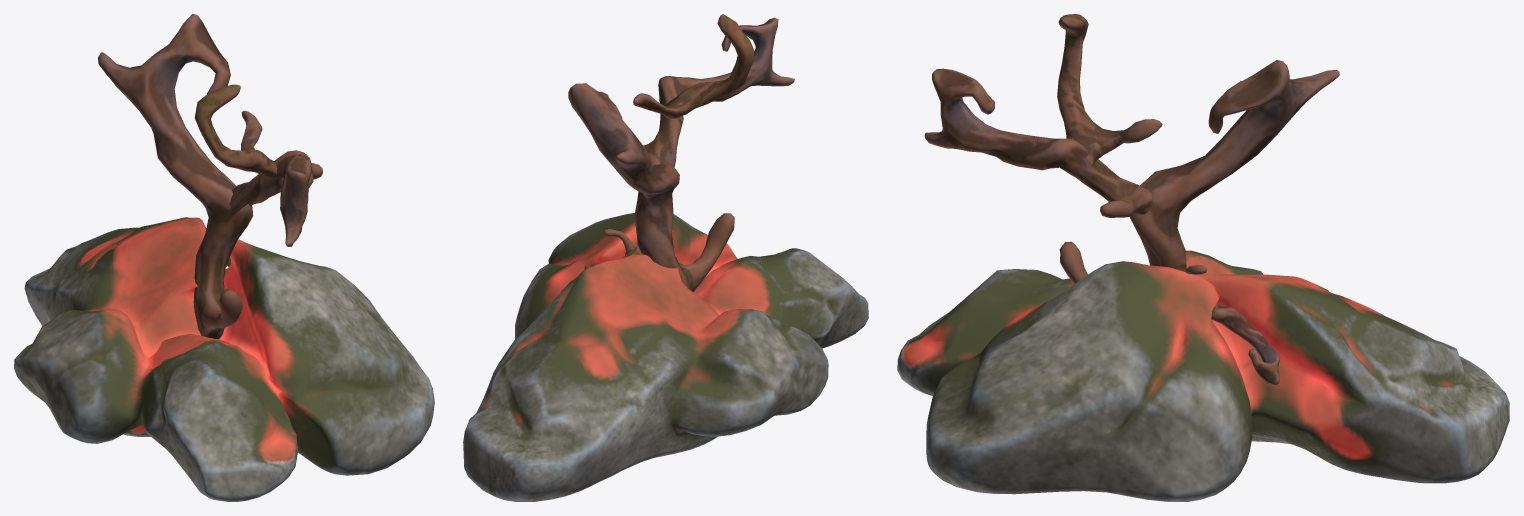
The model's file is Tree1.fbx.
3 renders of one model, left to right at view 1: azimuth 30°, elevation 25°; view 2: azimuth 150°, elevation 25°; view 3: azimuth 270°, elevation 25°, orthographic. The views are drawn at different scales.
Parts seen in each view (by area): view 1: Tree1; view 2: Tree1; view 3: Tree1.
Part boxes in pixels (x1=…): Tree1: x1=14, y1=14, x2=434, y2=501; Tree1: x1=463, y1=14, x2=868, y2=501; Tree1: x1=897, y1=14, x2=1509, y2=501.
Size of the model in its own units: 342 by 427 by 549.
